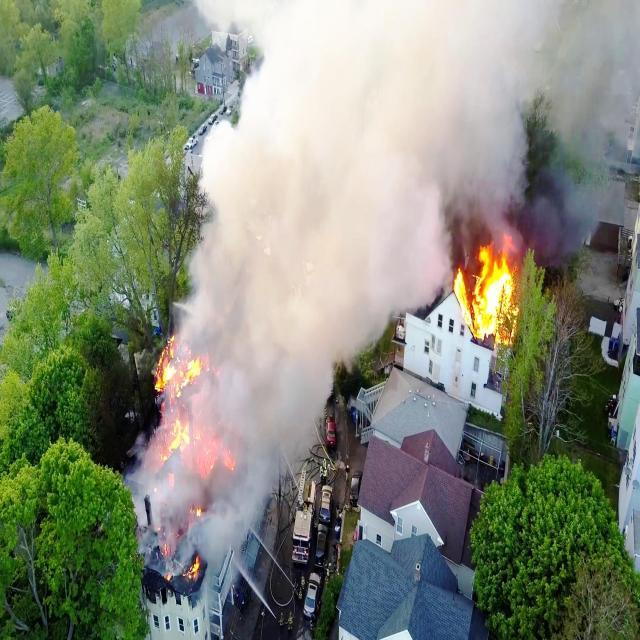Fire: (144, 341, 240, 594), (455, 245, 524, 348)
Smoke: (184, 0, 640, 236), (178, 237, 454, 328), (240, 330, 367, 524)
